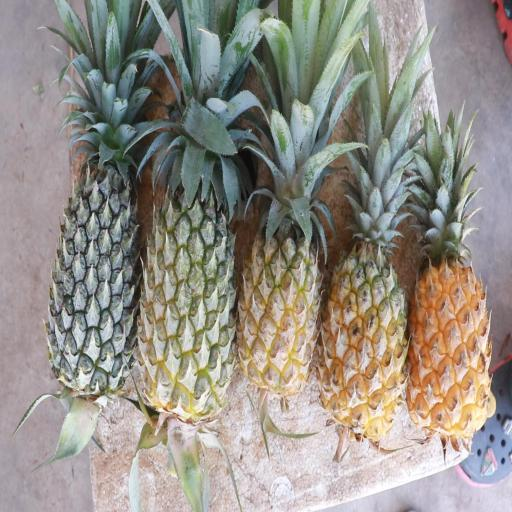------------------------------: (143, 121, 232, 420)
Pineapple - v8 v1: (326, 200, 405, 428), (241, 169, 318, 391), (412, 217, 490, 436)
